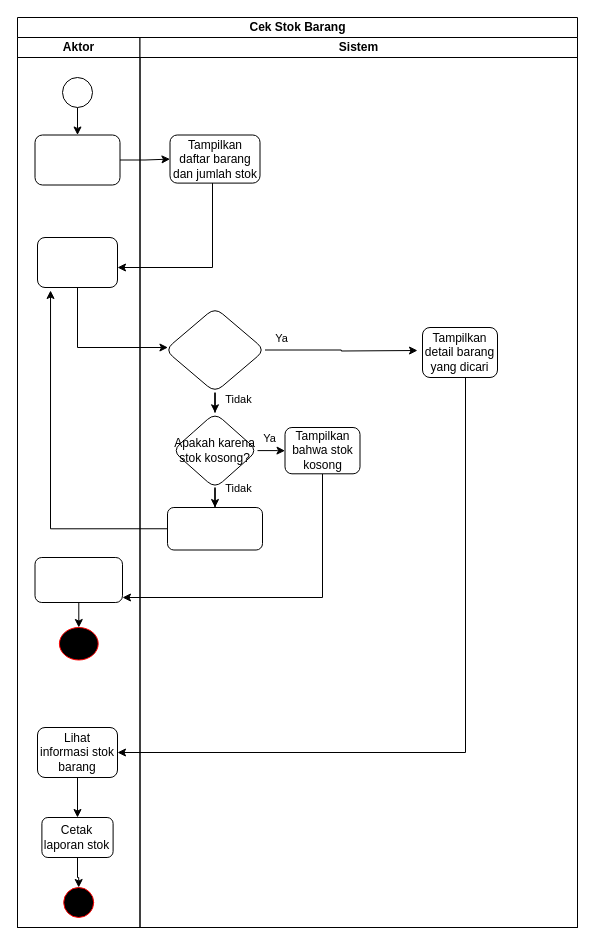
Image size: 595x945. Some labels were removed from this diagram. Here are the shapes that lost their labels. From the top down, the centre of each, then its label:
At (77,159): "Pilih menu daftar stok barang".
At (77,262): "Cari barang berdasarkan nama atau kode".
At (214,349): "Apakah barang tersedia?".
At (214,528): "Tampilkan bahwa barang yang dicari tidak ada".
At (78,579): "Catat barang yang perlu direstok".
